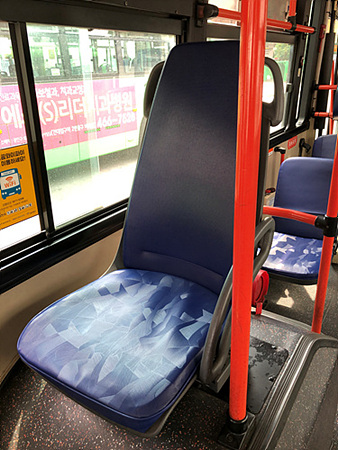seat: (22, 48, 238, 419)
